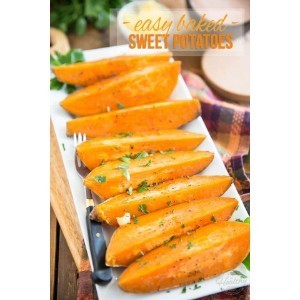sweet potato_brain food: (80, 133, 241, 269)
